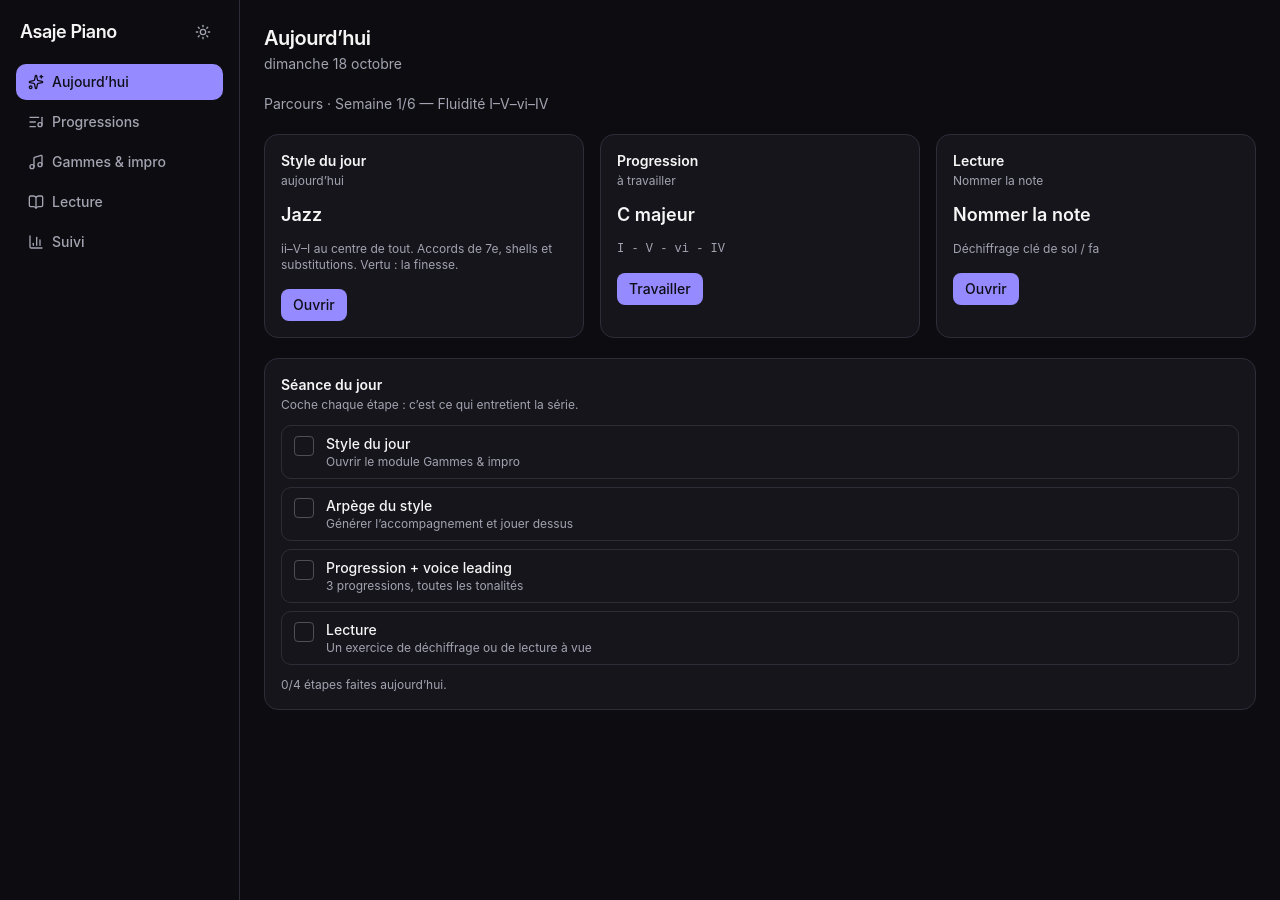
Test: App › shows the progress dashboard under Suivi
Step 1. Click the button "Suivi" → coordinates (120, 242), box top-left (16, 224), bottom-right (223, 260)
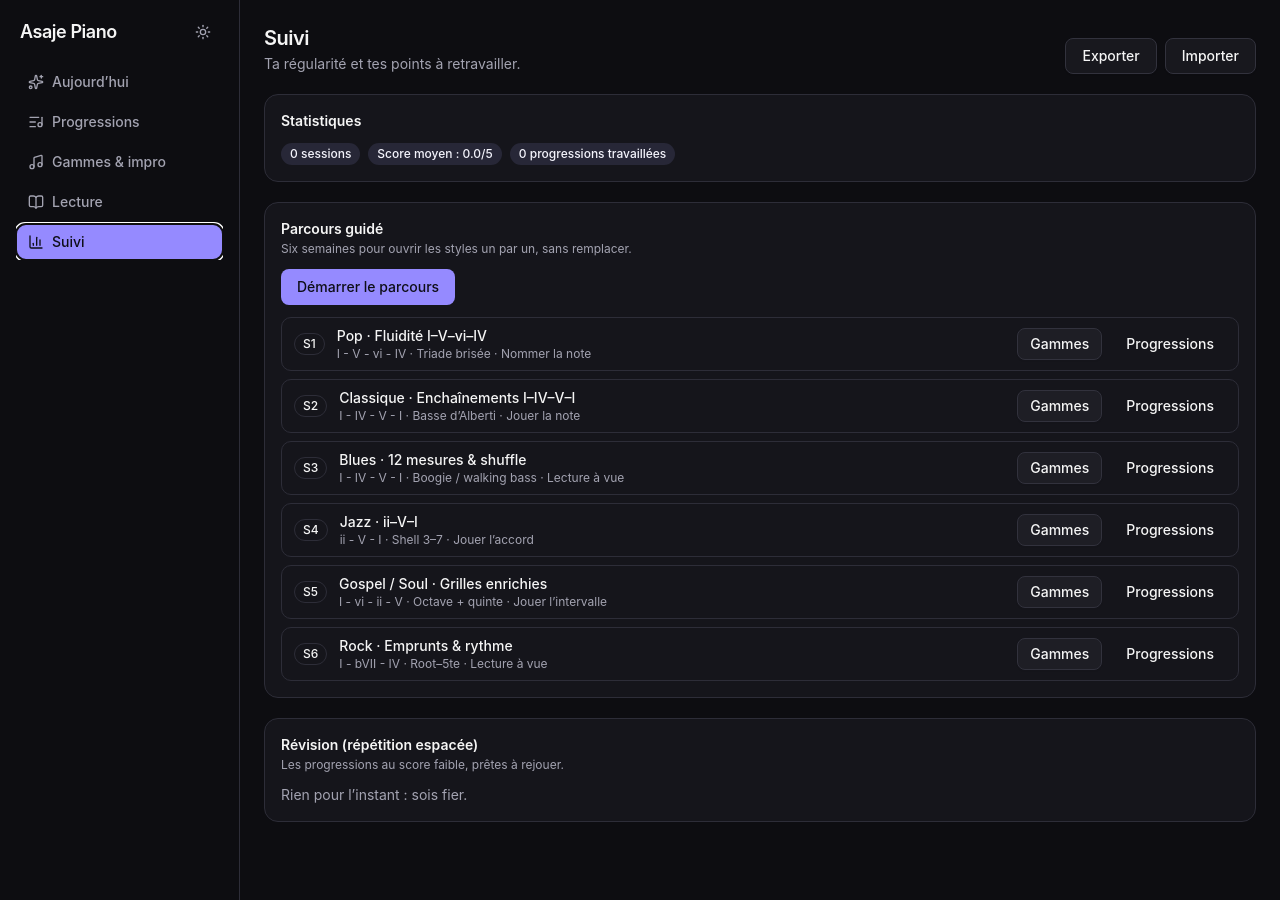
Now the heading "Parcours guidé" is shown, box top-left (281, 220), bottom-right (383, 237)
Now the heading "Statistiques" is shown, box top-left (281, 112), bottom-right (361, 129)
